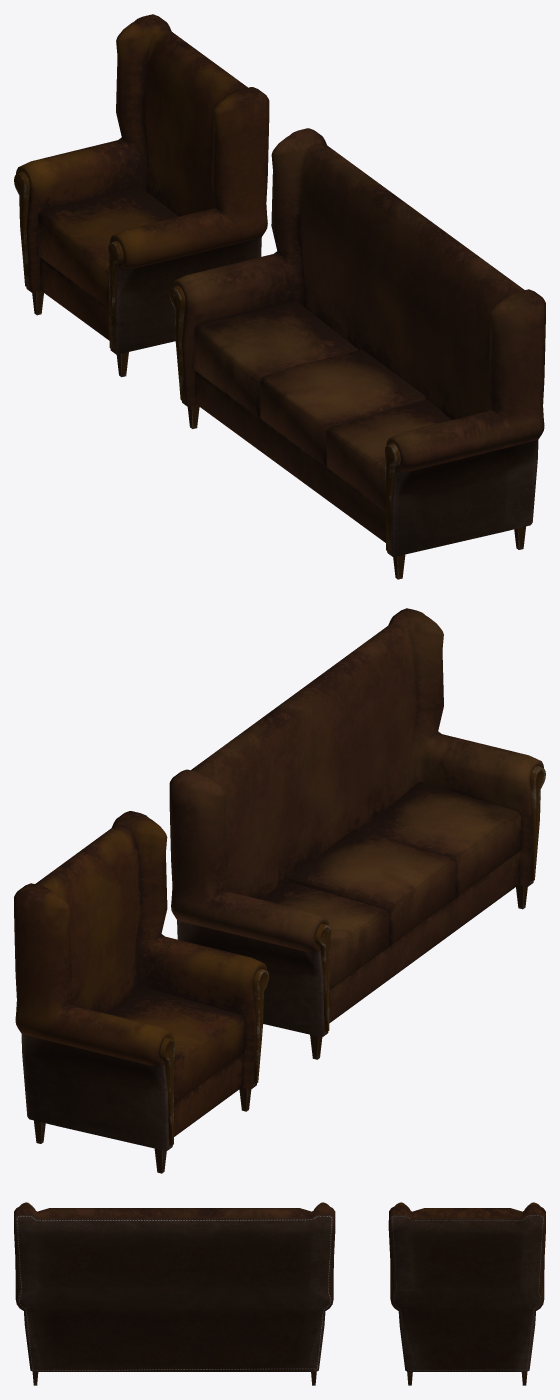
The picture shows the model from 3 angles, top to bottom: view 1: azimuth 30°, elevation 25°; view 2: azimuth 150°, elevation 25°; view 3: azimuth 270°, elevation 25°; orthographic projection. The views are drawn at different scales.
Visible parts, largest first — view 1: Divan_Box004.002, Cube.006_Cube.008; view 2: Divan_Box004.002, Cube.006_Cube.008; view 3: Divan_Box004.002, Cube.006_Cube.008.
Part boxes in pixels (x1,y1,x2,y2): Divan_Box004.002: [169, 128, 545, 579]; Cube.006_Cube.008: [14, 14, 269, 377]; Divan_Box004.002: [169, 608, 545, 1059]; Cube.006_Cube.008: [14, 811, 269, 1173]; Divan_Box004.002: [14, 1202, 335, 1385]; Cube.006_Cube.008: [388, 1202, 545, 1385].
Bounding box in the file's own units: 0.4298 × 0.7312 × 2.
Materials: 2 (2 with a texture image).
